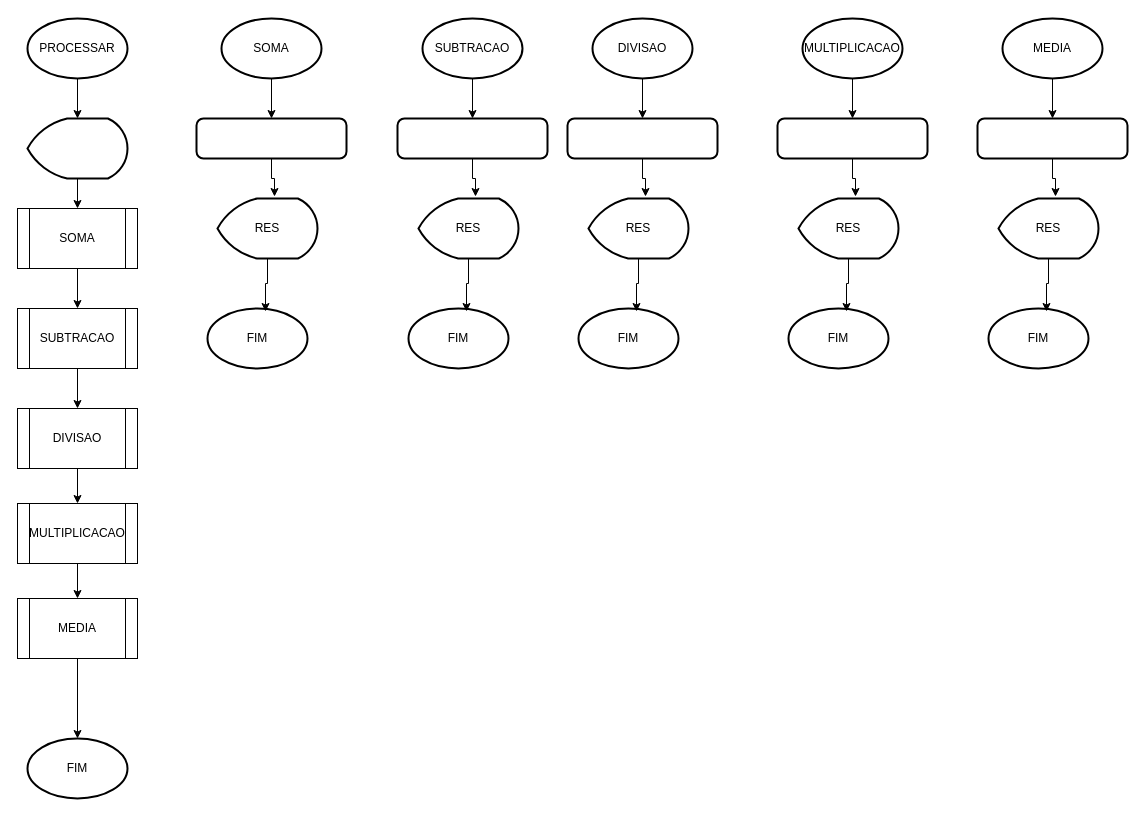
Image size: 1146x816. Some labels were removed from this diagram. The shapes that lost their labels are listed below. From the top down, each one's centre as x and y in pixels, then its label:
At pixel 77 148: "NUM1 NUM2".
At pixel 271 138: "RES = NUM1 + NUM2 TOTOPPER += 1".
At pixel 472 138: "RES = NUM1 - NUM2 TOTOPPER += 1".
At pixel 642 138: "RES = NUM1 / NUM2 TOTOPPER += 1".
At pixel 852 138: "RES = NUM1 * NUM2 TOTOPPER += 1".
At pixel 1052 138: "RES = (NUM1 + NUM2)/2 TOTOPPER += 1".
